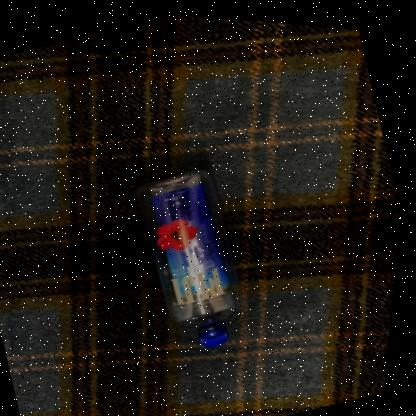Plastic: (139, 165, 244, 342)
